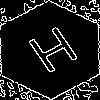H: (25, 25, 87, 83)
